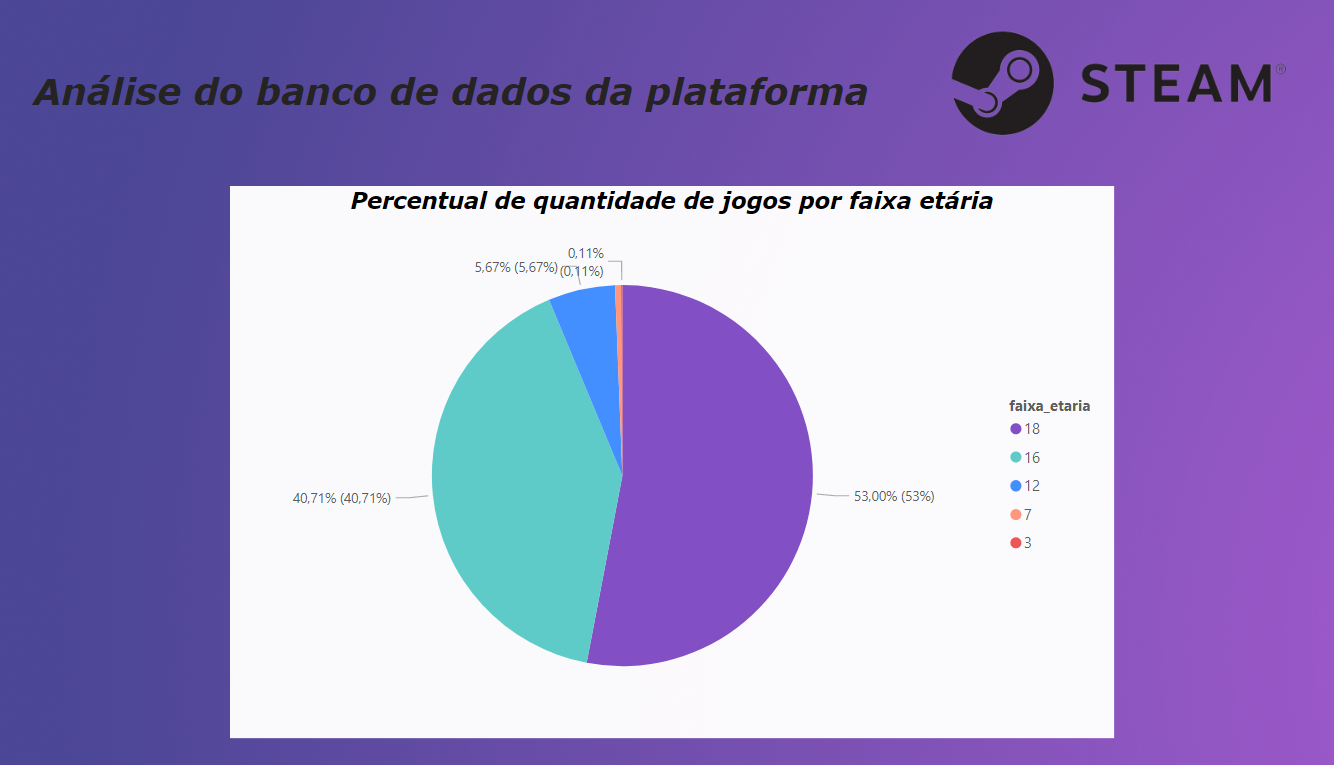

The page's visual inventory and layout, read from the dashboard file:
{"tool":"powerbi","page":{"name":"Quantidade de jogos por faixa etária","canvas":[1280,720],"ordinal":7},"visuals":[{"type":"pieChart","title":"Percentual de quantidade de jogos por faixa etária","fields":{"Y":["Sum(bdsteam steam_dados.faixa_etaria)"],"Category":["bdsteam steam_dados.faixa_etaria"]},"box":[310.8,216.7,782.8,488.8],"z":0},{"type":"image","box":[856.4,39.9,357.8,121.3],"z":1000},{"type":"textbox","box":[41.6,87.7,805.9,52.3],"z":2000}]}

Visuals, with their boxes in screenshot pixels (x1, y1, x2, y2), scaled from the page's 1280x720 canvas onto the 1334x765 screenshot:
"Percentual de quantidade de jogos por faixa etária" pieChart: 324:230:1140:750
image: 893:42:1265:171
textbox: 43:93:883:149
